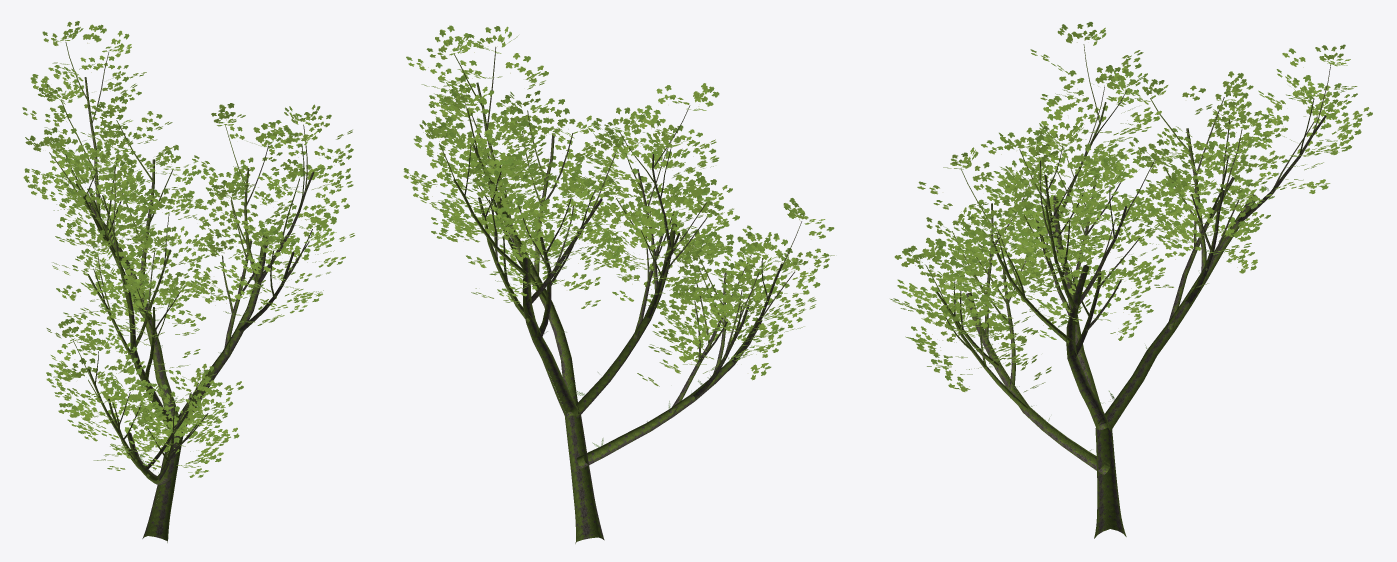
File: hoh_bigleaf_maple.glb
The picture shows the model from 3 angles, left to right: view 1: azimuth 30°, elevation 25°; view 2: azimuth 150°, elevation 25°; view 3: azimuth 270°, elevation 25°; orthographic projection. The views are drawn at different scales.
Parts seen in each view (by area): view 1: hoh_bigleaf_maple; view 2: hoh_bigleaf_maple; view 3: hoh_bigleaf_maple.
Boxes of the visible parts, box(x1,y1,x2,y2) form: hoh_bigleaf_maple: box(22, 21, 354, 542); hoh_bigleaf_maple: box(403, 25, 834, 543); hoh_bigleaf_maple: box(890, 22, 1372, 538).
Bounding box in the file's own units: 14.06 × 17.25 × 15.63.
Materials: 3 (3 with a texture image).
